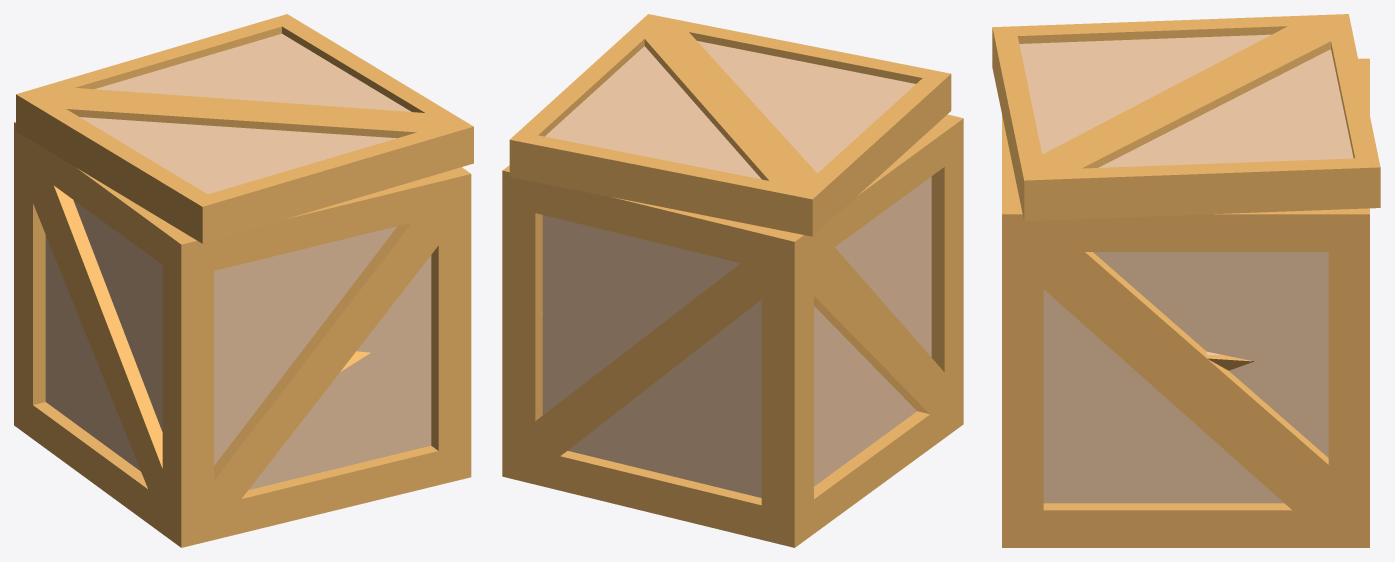
Rendered from KM_caisse.FBX.
The picture shows the model from 3 angles, left to right: view 1: azimuth 30°, elevation 25°; view 2: azimuth 150°, elevation 25°; view 3: azimuth 270°, elevation 25°; orthographic projection. The views are drawn at different scales.
Visible parts, largest first — view 1: Object, Bas_caisse, Haut_caisse; view 2: Object, Bas_caisse, Haut_caisse; view 3: Haut_caisse, Object, Bas_caisse.
Part boxes in pixels (x1,y1,x2,y2): Object: (14, 274, 471, 547); Bas_caisse: (14, 122, 471, 395); Haut_caisse: (16, 14, 473, 243); Object: (502, 266, 963, 547); Bas_caisse: (502, 114, 963, 401); Haut_caisse: (509, 14, 951, 236); Haut_caisse: (992, 14, 1380, 221); Object: (1002, 351, 1369, 547); Bas_caisse: (1002, 58, 1369, 410).
Size of the model in its own units: 36.15 by 37.87 by 35.6.
